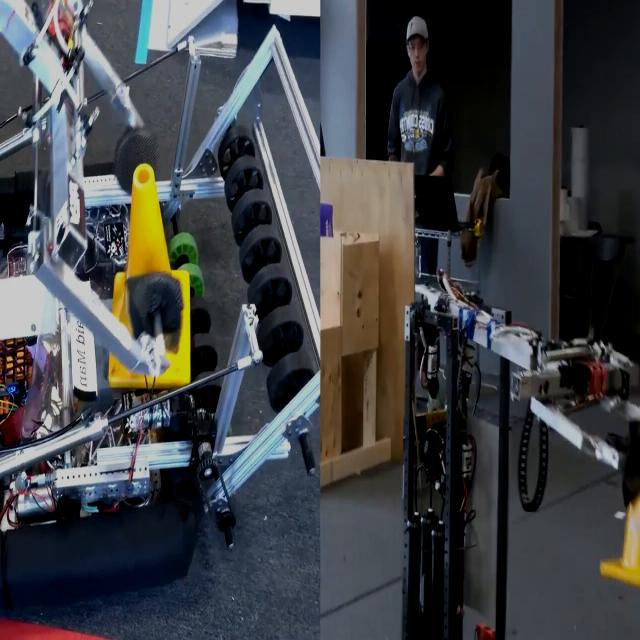frc_cone: (107, 173, 196, 399), (590, 405, 640, 601)
